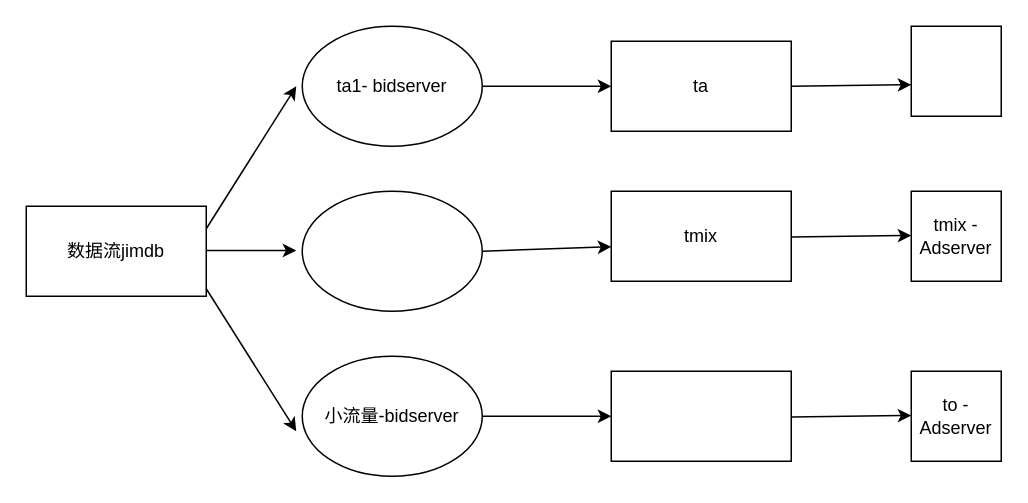
The diagram is 1028 pixels wide and 503 high, and some of its shapes have lost their labels. The shapes that lost their labels are listed below. From the top down, each one's box as (x1, y1, x2, y2) in pixels, then its label:
(910, 25, 1001, 116): ta -Adserver
(301, 190, 482, 311): tmix-bidserver
(610, 370, 791, 461): 小流量
